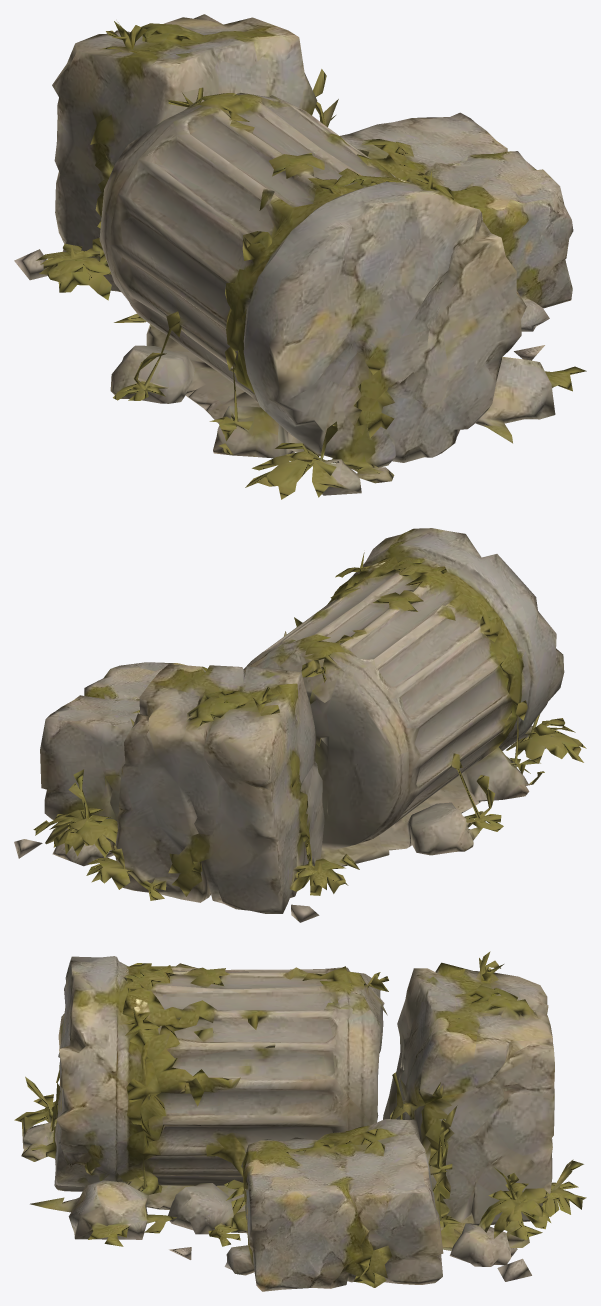
The model's file is rubble.glb.
3 views of the same model, one above another, from view 1: azimuth 30°, elevation 25°; view 2: azimuth 150°, elevation 25°; view 3: azimuth 270°, elevation 25° (orthographic). The views are drawn at different scales.
Visible parts, largest first — view 1: tripo_node_2304b0bd_16a5_483b_a402_f5a21c2898b1__rubble; view 2: tripo_node_2304b0bd_16a5_483b_a402_f5a21c2898b1__rubble; view 3: tripo_node_2304b0bd_16a5_483b_a402_f5a21c2898b1__rubble.
Part boxes in pixels (<box>): tripo_node_2304b0bd_16a5_483b_a402_f5a21c2898b1__rubble: <box>14,14,586,499</box>; tripo_node_2304b0bd_16a5_483b_a402_f5a21c2898b1__rubble: <box>14,528,586,922</box>; tripo_node_2304b0bd_16a5_483b_a402_f5a21c2898b1__rubble: <box>14,951,586,1291</box>.
Bounding box in the file's own units: 1.5 × 0.8 × 1.95.
1 material, 1 textured.
